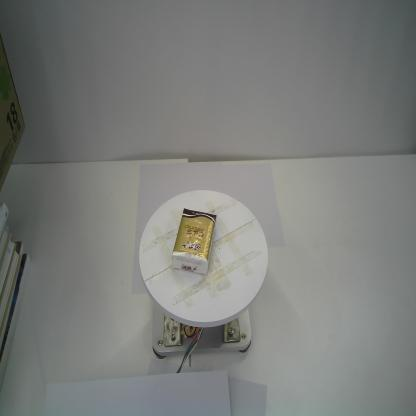Tissue: (171, 208, 217, 276)
